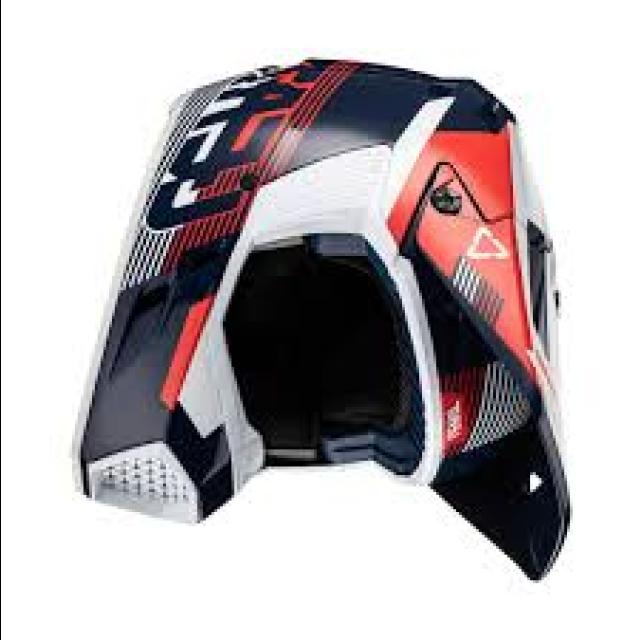Helmet: (82, 61, 569, 579)
